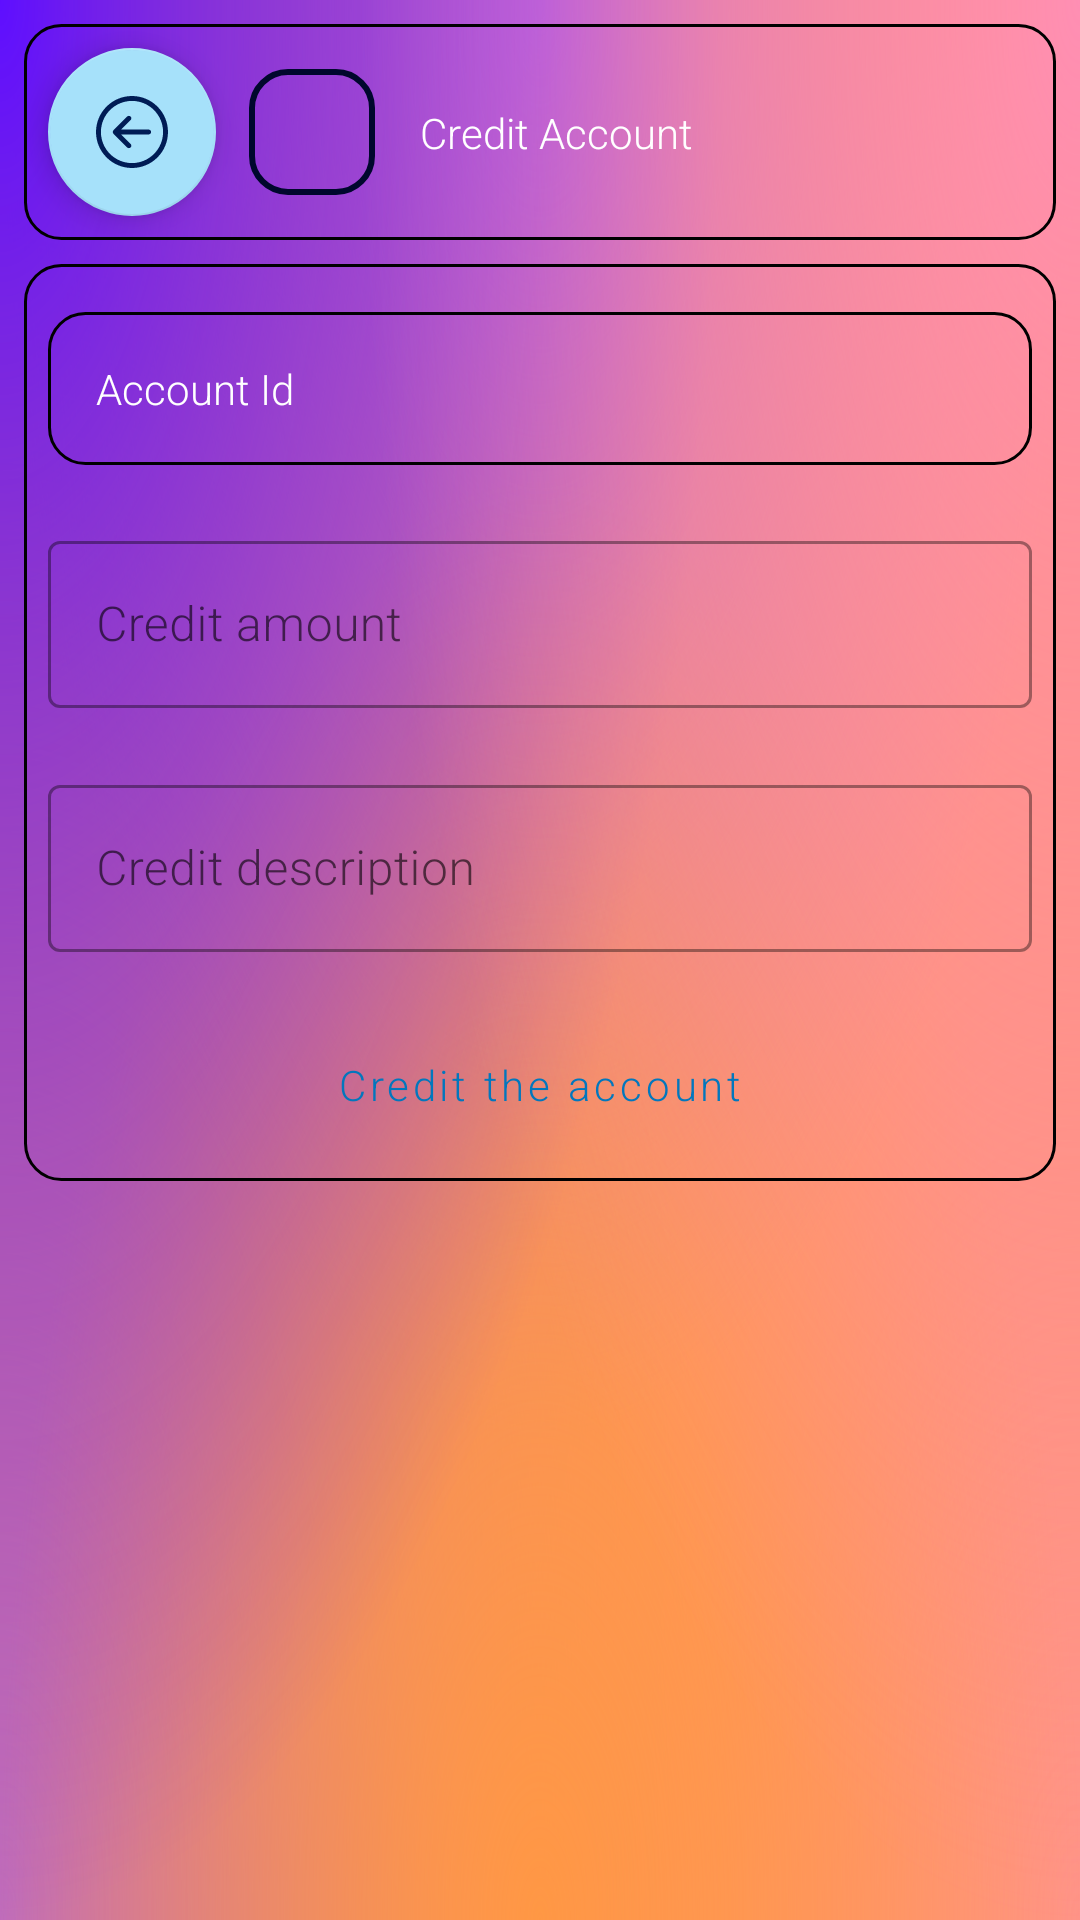

Point at icon controls on the screen. Image size 1080 x 1920, points as (x=x, y=y).
back: (x=132, y=132)
